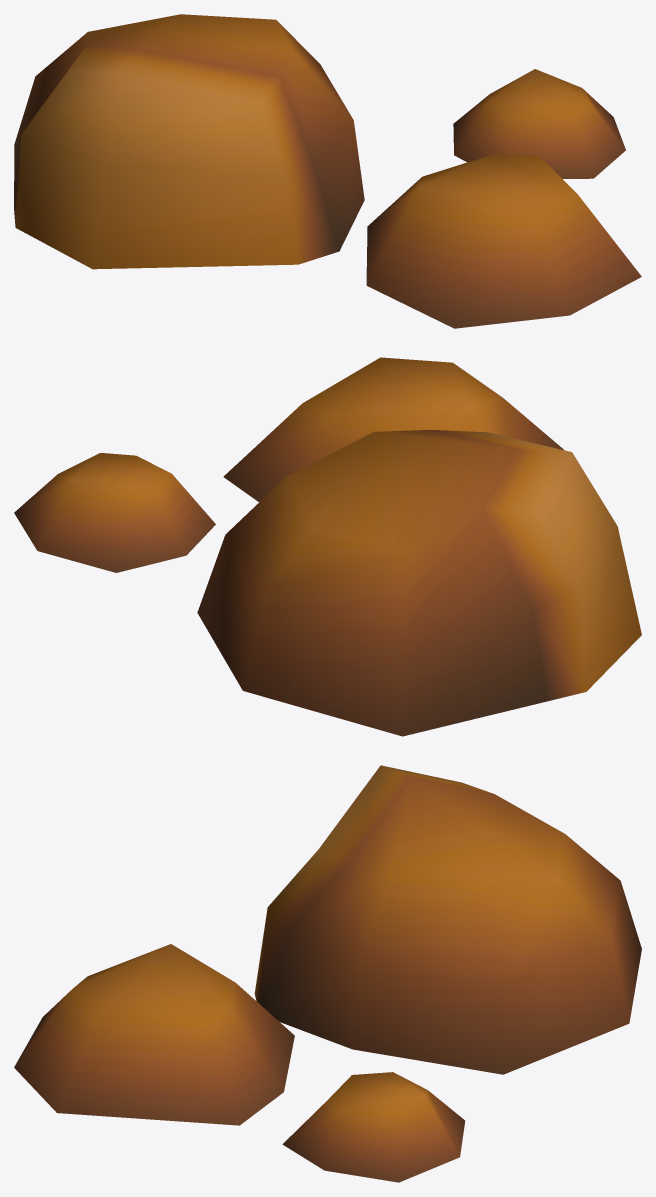
Rendered from m_Rocks02_B.fbx.
3 views of the same model, one above another, from view 1: azimuth 30°, elevation 25°; view 2: azimuth 150°, elevation 25°; view 3: azimuth 270°, elevation 25° (orthographic). The views are drawn at different scales.
Visible parts, largest first — view 1: m_Rocks02_B; view 2: m_Rocks02_B; view 3: m_Rocks02_B.
Boxes of the visible parts, x1,y1,x2,y2 form: m_Rocks02_B: (14,14,641,328); m_Rocks02_B: (14,357,641,736); m_Rocks02_B: (14,765,641,1182).
Bounding box in the file's own units: 188 × 56.99 × 182.
